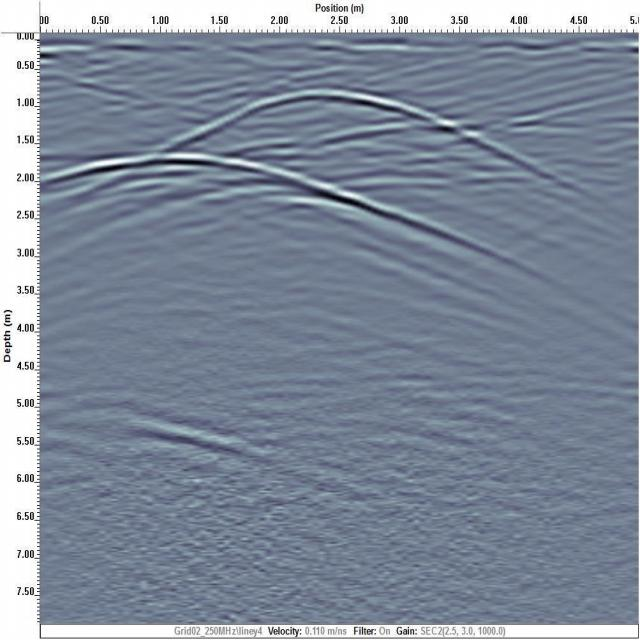hyperbola: (45, 144, 388, 234), (194, 76, 492, 140)
